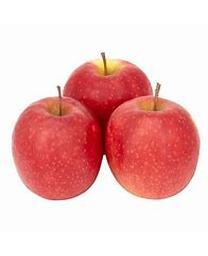apple: (104, 82, 200, 199), (10, 85, 103, 199), (62, 52, 153, 122)
